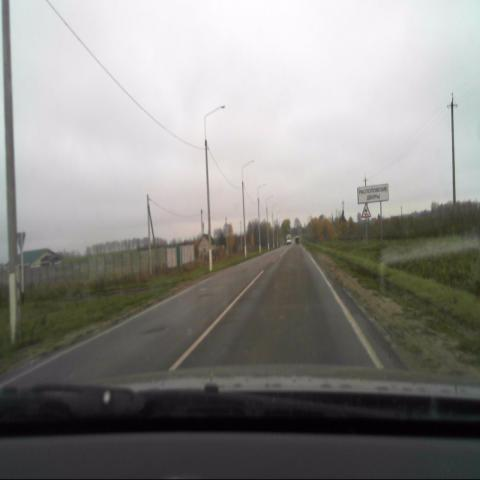1_15: (361, 203, 371, 219)
